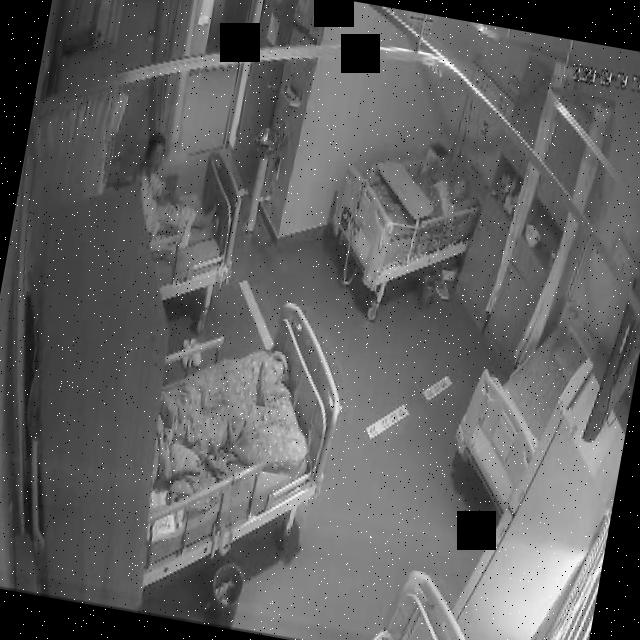bed: (132, 284, 356, 576), (308, 115, 490, 328), (442, 306, 594, 526), (126, 136, 252, 312)
patient: (118, 132, 234, 264), (422, 172, 474, 225)
sit: (118, 136, 230, 260)
